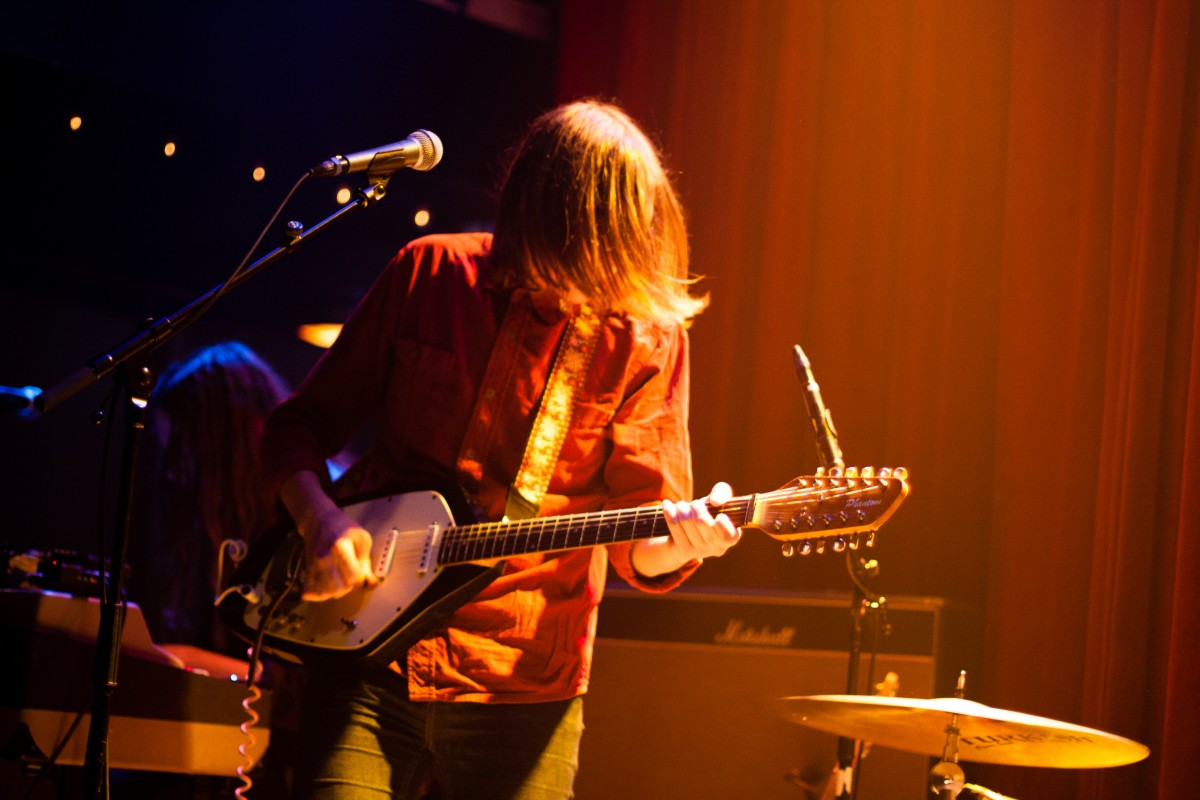acousticguitar: (220, 462, 916, 680)
